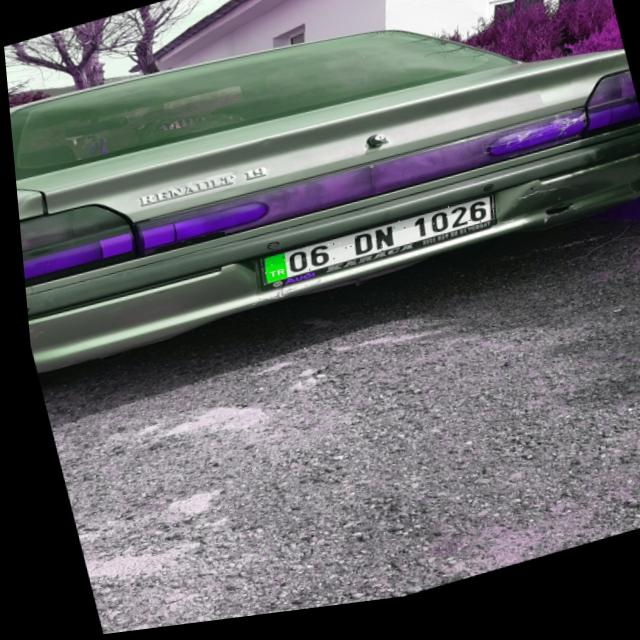plate: (250, 204, 496, 292)
